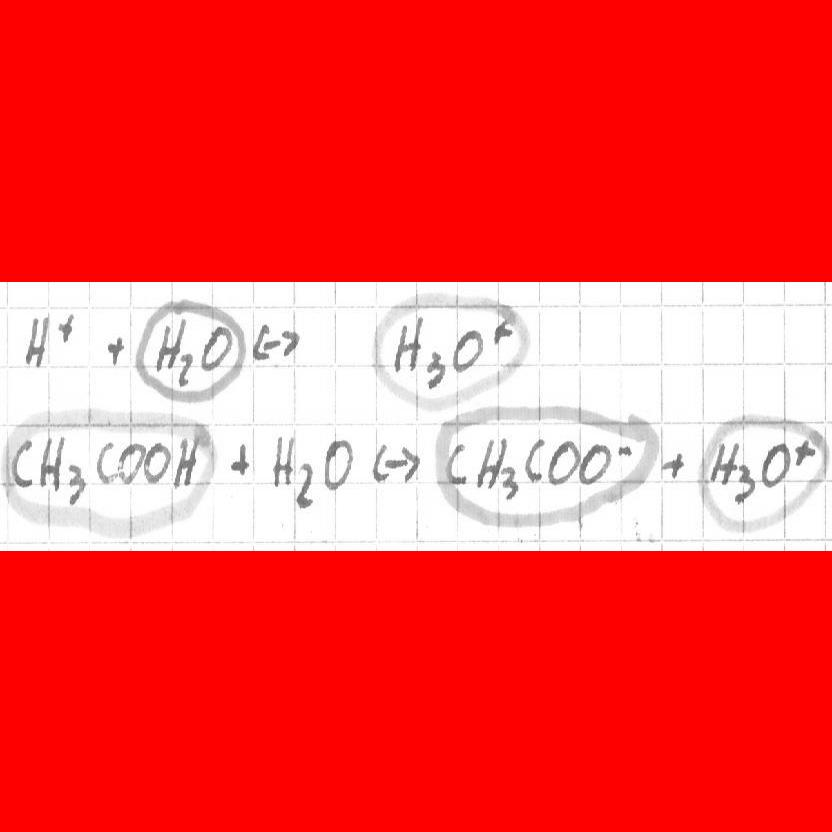Char: (370, 441, 420, 489), (253, 320, 299, 367), (391, 312, 425, 375), (200, 322, 238, 374), (322, 436, 353, 495), (173, 433, 205, 489), (706, 434, 741, 485), (475, 434, 507, 489), (450, 325, 483, 372), (155, 319, 183, 373), (547, 440, 579, 486), (23, 312, 48, 369), (270, 432, 294, 490), (760, 441, 788, 489), (9, 435, 34, 488), (41, 433, 65, 488), (444, 440, 469, 492), (579, 442, 610, 483), (144, 438, 170, 484), (116, 442, 142, 488), (523, 436, 546, 483), (425, 346, 447, 391), (295, 460, 315, 509), (94, 439, 116, 483), (733, 462, 755, 504), (66, 461, 86, 507), (791, 437, 817, 471), (660, 449, 685, 483), (229, 440, 251, 478), (105, 334, 127, 372), (54, 311, 76, 347), (492, 314, 516, 346), (500, 465, 519, 500), (614, 438, 635, 466), (823, 433, 832, 477)
